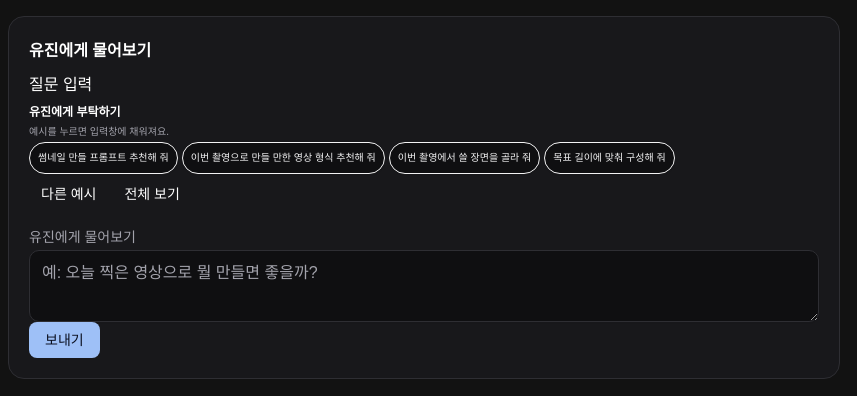
Scenario: HomeYujinChat › lets the owner talk to Yujin without leaving home
Type "자막 어떻게 할까?" into the text box labelled "유진에게 물어보기". click: (424, 286)
box: [29, 250, 819, 322]
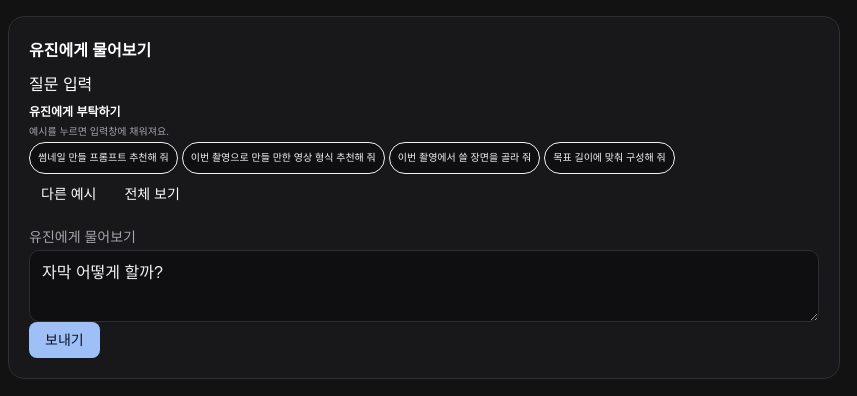
Click the button "보내기". click: (64, 340)
box: [29, 322, 100, 358]
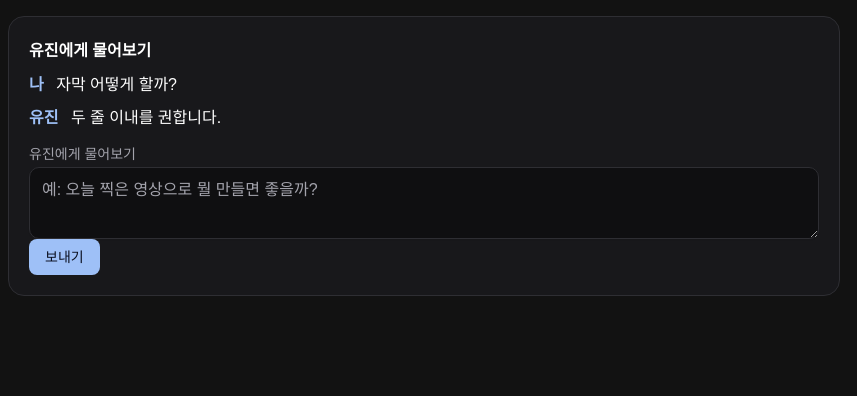
Check: the text "두 줄 이내를 권합니다." is shown, box [71, 109, 221, 126]
Check: the text "자막 어떻게 할까?" is shown, box [56, 76, 177, 93]
